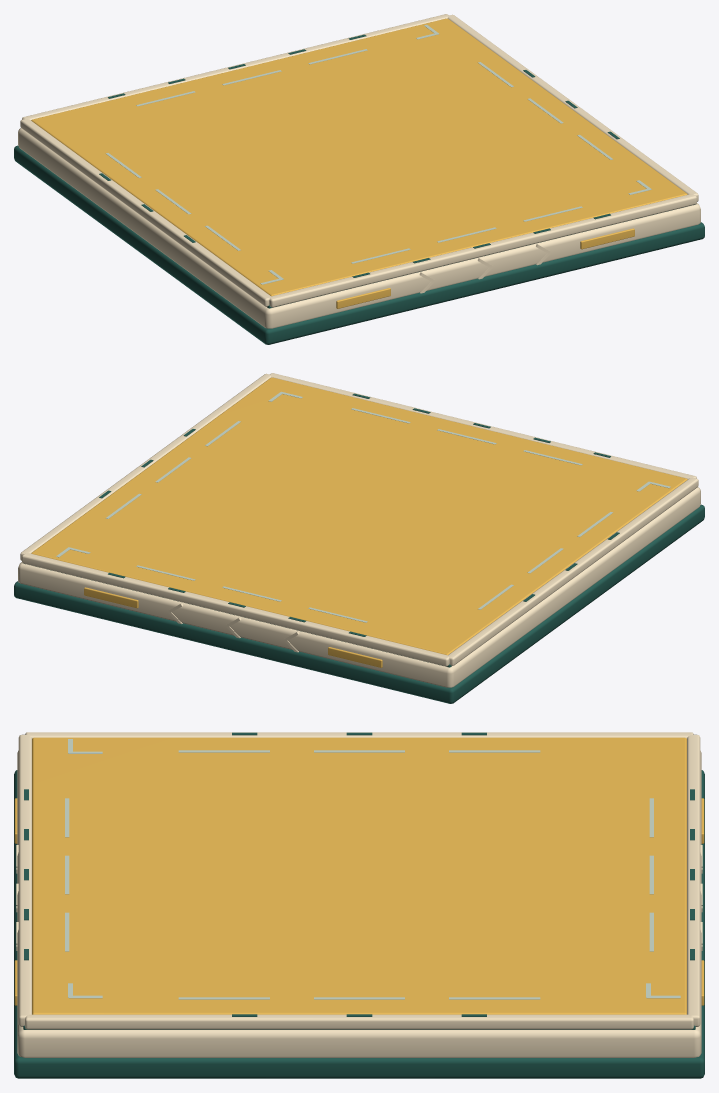
The model's file is athlete_tile_gold.glb.
The picture shows the model from 3 angles, top to bottom: view 1: azimuth 30°, elevation 25°; view 2: azimuth 150°, elevation 25°; view 3: azimuth 270°, elevation 25°; orthographic projection. The views are drawn at different scales.
Parts seen in each view (by area): view 1: athlete_tile_gold__surface_gold, athlete_tile_gold__cream, athlete_tile_gold__ink, athlete_tile_gold__line; view 2: athlete_tile_gold__surface_gold, athlete_tile_gold__cream, athlete_tile_gold__ink, athlete_tile_gold__line; view 3: athlete_tile_gold__surface_gold, athlete_tile_gold__cream, athlete_tile_gold__ink, athlete_tile_gold__line.
Part boxes in pixels (x1,y1,x2,y2): athlete_tile_gold__surface_gold: (31,18,687,308); athlete_tile_gold__cream: (18,14,700,328); athlete_tile_gold__ink: (14,34,704,344); athlete_tile_gold__line: (105,24,651,284); athlete_tile_gold__surface_gold: (31,377,687,667); athlete_tile_gold__cream: (18,373,700,687); athlete_tile_gold__ink: (14,393,704,703); athlete_tile_gold__line: (56,391,670,622); athlete_tile_gold__surface_gold: (14,737,704,1014); athlete_tile_gold__cream: (16,732,702,1057); athlete_tile_gold__ink: (14,732,704,1078); athlete_tile_gold__line: (65,739,680,999).
Bounding box in the file's own units: 2.05 × 0.197 × 2.05.
